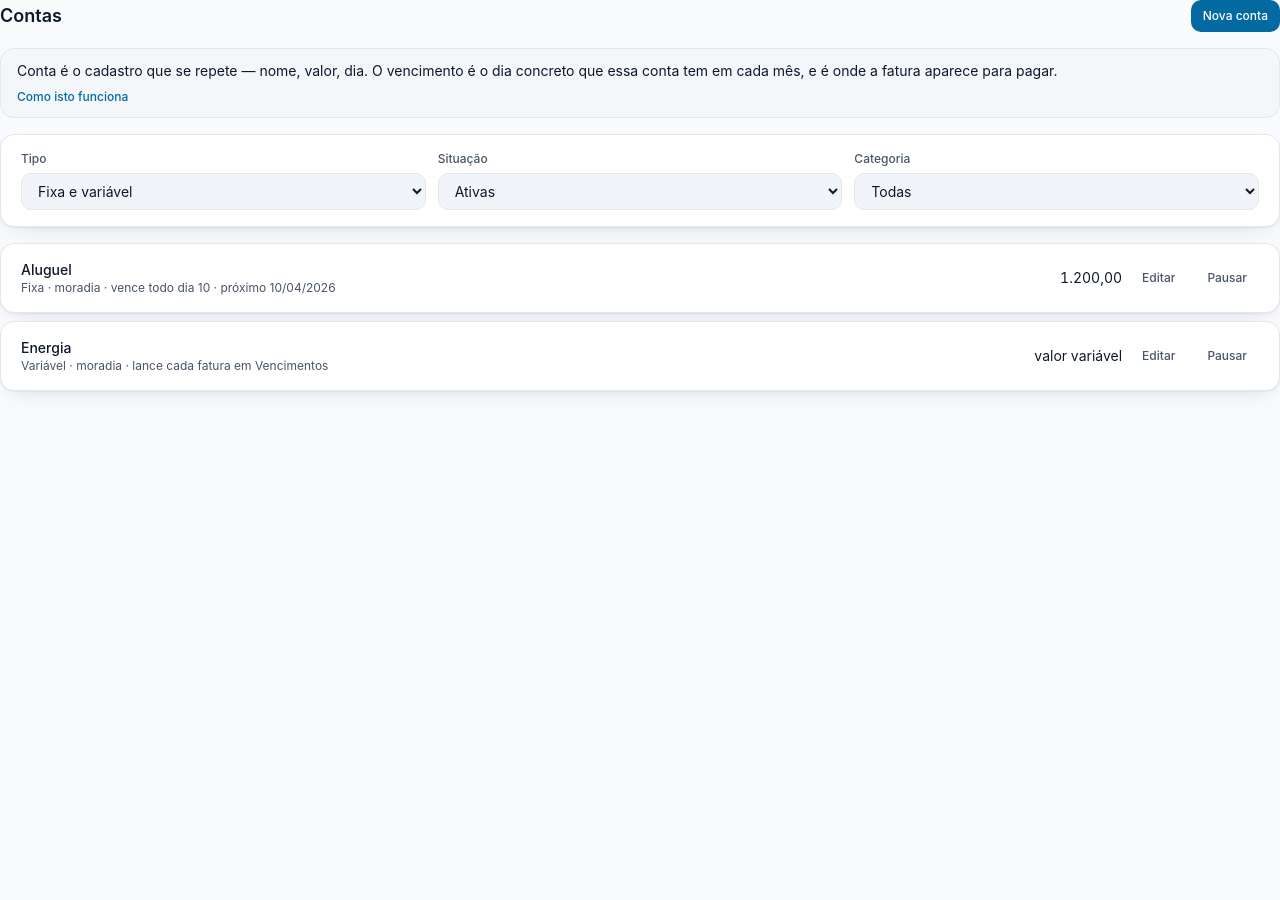
Test: BillListPage › abre o cadastro de conta no clique em "Nova conta"
Expected: the text "Aluguel" is shown, [21, 261, 72, 278]
Click the button "Nova conta".
click(1235, 16)  # box [1191, 0, 1279, 32]
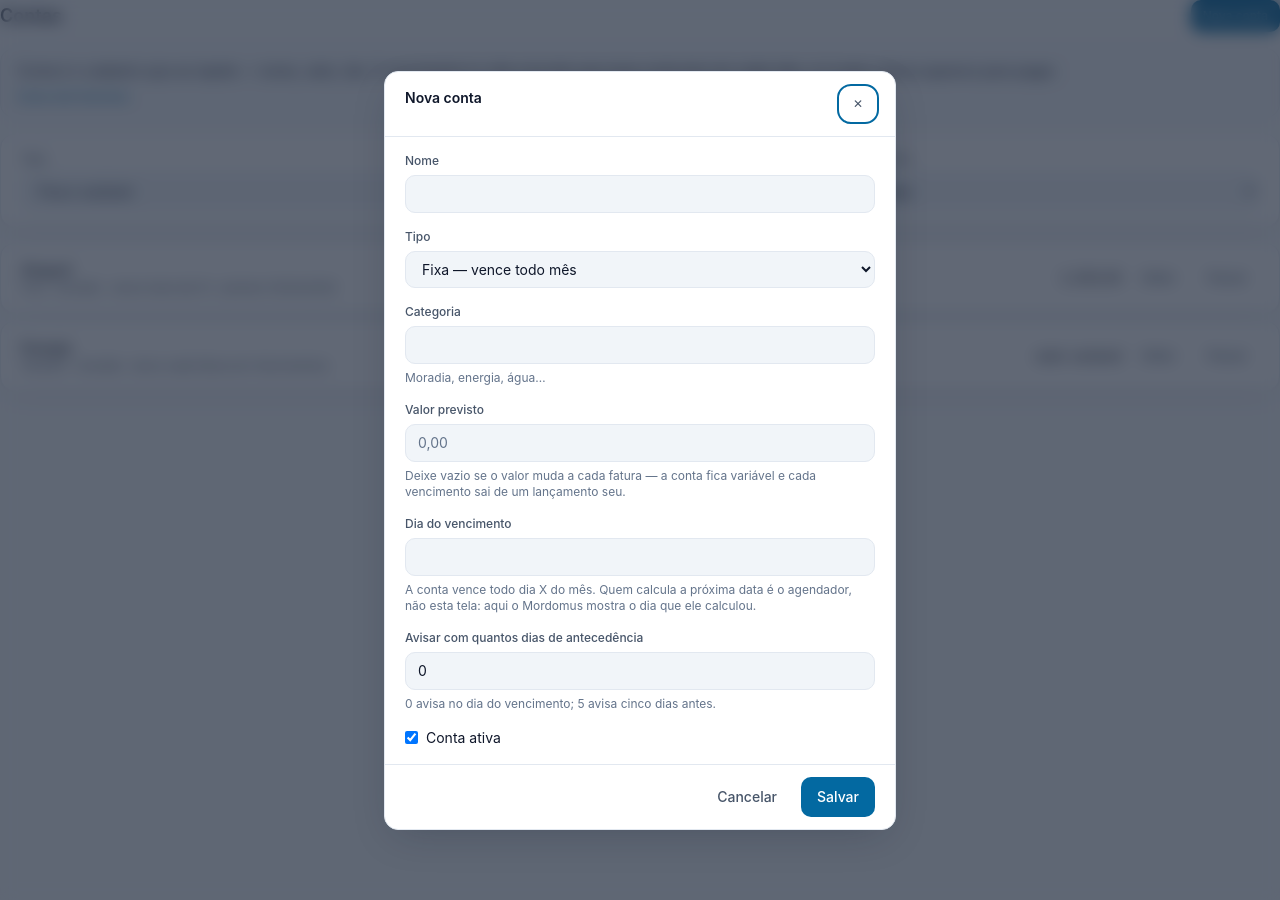
Result: the dialog "Nova conta" is shown at [384, 70, 896, 830]
Result: the field labelled "Nome" is shown at [405, 174, 875, 212]
